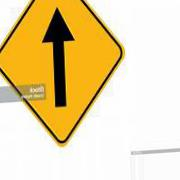forward: (2, 2, 126, 147)
